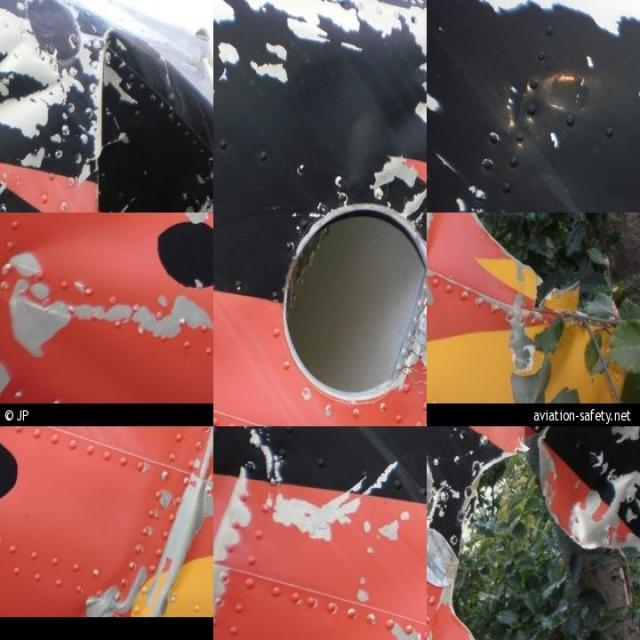dent: (292, 57, 382, 181), (384, 86, 423, 149)
